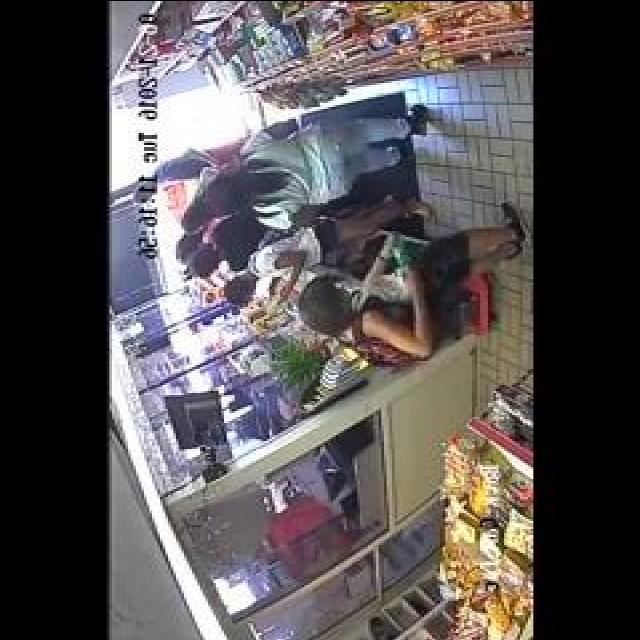Shoplifting: (283, 201, 533, 365)
